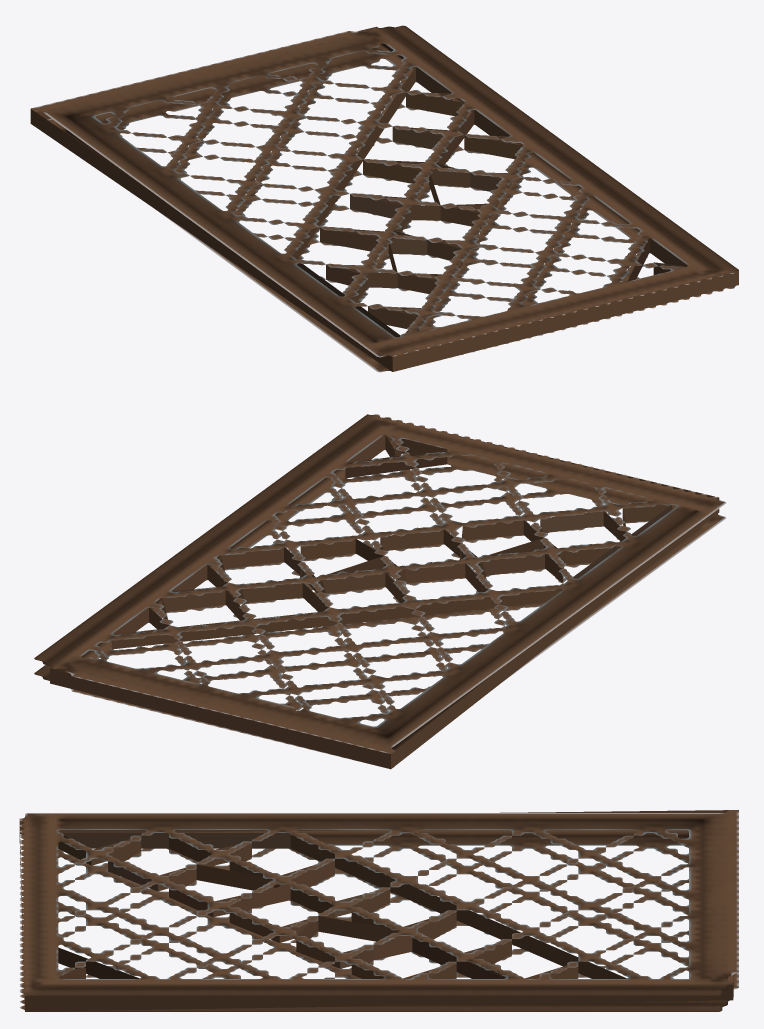
The model's file is pz_native_fixtures_windows_church_9_frame.obj.
3 renders of one model, top to bottom at view 1: azimuth 30°, elevation 25°; view 2: azimuth 150°, elevation 25°; view 3: azimuth 270°, elevation 25°, orthographic. The views are drawn at different scales.
Visible parts, largest first — view 1: pz_native_fixtures_windows_church_9_frame; view 2: pz_native_fixtures_windows_church_9_frame; view 3: pz_native_fixtures_windows_church_9_frame.
Part boxes in pixels (x1,y1,x2,y2): pz_native_fixtures_windows_church_9_frame: [30, 25, 738, 372]; pz_native_fixtures_windows_church_9_frame: [34, 414, 726, 769]; pz_native_fixtures_windows_church_9_frame: [19, 810, 738, 1011].
Size of the model in its own units: 1.06 by 0.04 by 1.7.
1 material, 1 textured.
